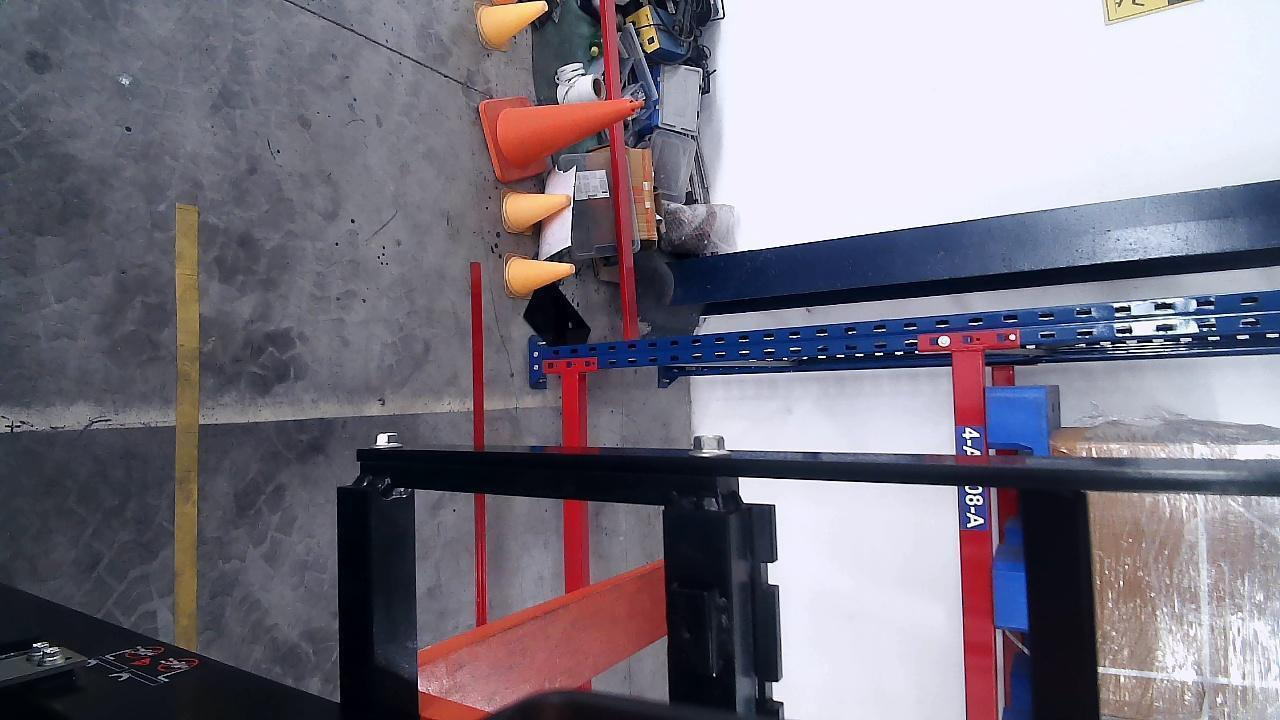red_line: (468, 256, 490, 620)
yellow_line: (175, 206, 197, 649)
